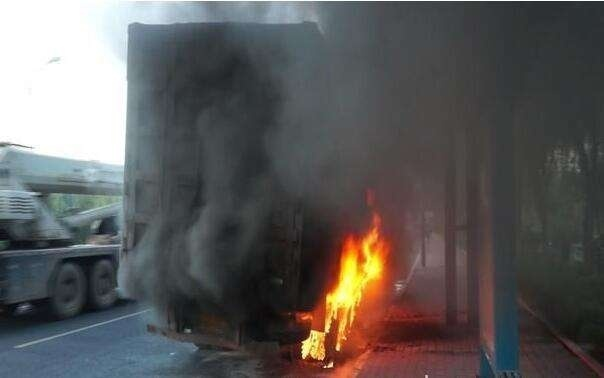fire: (296, 214, 390, 359)
